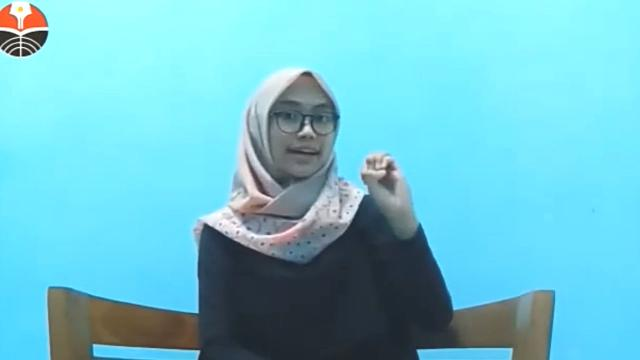E: (360, 150, 412, 218)
